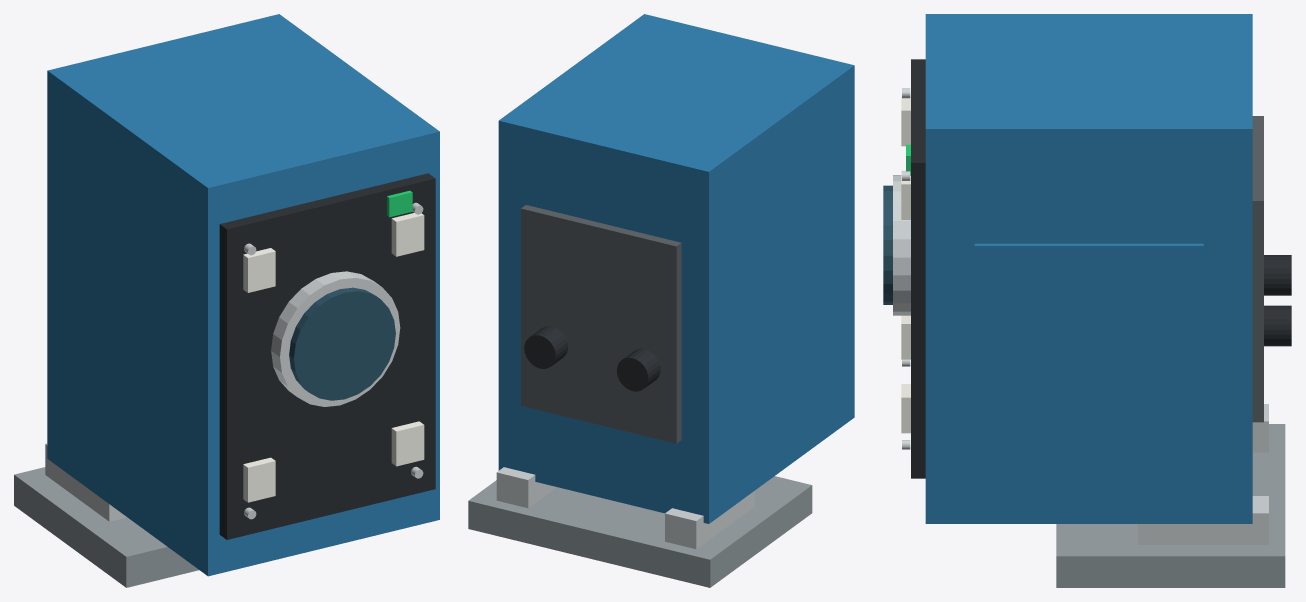
The picture shows the model from 3 angles, left to right: view 1: azimuth 30°, elevation 25°; view 2: azimuth 150°, elevation 25°; view 3: azimuth 270°, elevation 25°; orthographic projection. The views are drawn at different scales.
Parts seen in each view (by area): view 1: housing, front bezel, optical lens, Mount bracket, lens surround, mounting flange, illumination emitter.002, illumination emitter.003, illumination emitter, illumination emitter.001, status indicator; view 2: housing, Rear connector plate, Mount bracket, mounting flange, mounting flange.001, Electrical connector, Electrical connector.001; view 3: housing, blue side label, Mount bracket, front bezel, Rear connector plate, mounting flange.001, lens surround, optical lens, Electrical connector.001, Electrical connector, mounting flange.
Part boxes in pixels (x1=…): housing: x1=47, y1=14, x2=439, y2=576; front bezel: x1=219, y1=173, x2=435, y2=539; optical lens: x1=289, y1=287, x2=395, y2=400; Mount bracket: x1=14, y1=467, x2=199, y2=587; lens surround: x1=271, y1=271, x2=400, y2=406; mounting flange: x1=45, y1=443, x2=126, y2=521; illumination emitter.002: x1=391, y1=421, x2=424, y2=466; illumination emitter.003: x1=391, y1=213, x2=424, y2=256; illumination emitter: x1=243, y1=457, x2=275, y2=502; illumination emitter.001: x1=243, y1=248, x2=275, y2=292; status indicator: x1=387, y1=190, x2=412, y2=217; housing: x1=498, y1=14, x2=854, y2=523; Rear connector plate: x1=521, y1=205, x2=681, y2=443; Mount bracket: x1=468, y1=476, x2=812, y2=587; mounting flange: x1=665, y1=491, x2=754, y2=549; mounting flange.001: x1=496, y1=467, x2=556, y2=507; Electrical connector: x1=617, y1=348, x2=660, y2=391; Electrical connector.001: x1=524, y1=326, x2=567, y2=368; housing: x1=925, y1=14, x2=1252, y2=523; blue side label: x1=974, y1=243, x2=1203, y2=411; Mount bracket: x1=1056, y1=424, x2=1285, y2=587; front bezel: x1=911, y1=59, x2=925, y2=478; Rear connector plate: x1=1252, y1=116, x2=1263, y2=422; mounting flange.001: x1=1138, y1=496, x2=1268, y2=544; lens surround: x1=893, y1=175, x2=910, y2=315; optical lens: x1=883, y1=185, x2=892, y2=304; Electrical connector.001: x1=1264, y1=305, x2=1291, y2=346; Electrical connector: x1=1264, y1=255, x2=1291, y2=295; mounting flange: x1=1252, y1=404, x2=1268, y2=452.
Bounding box in the file's own units: 0.115 × 0.1824 × 0.15.
